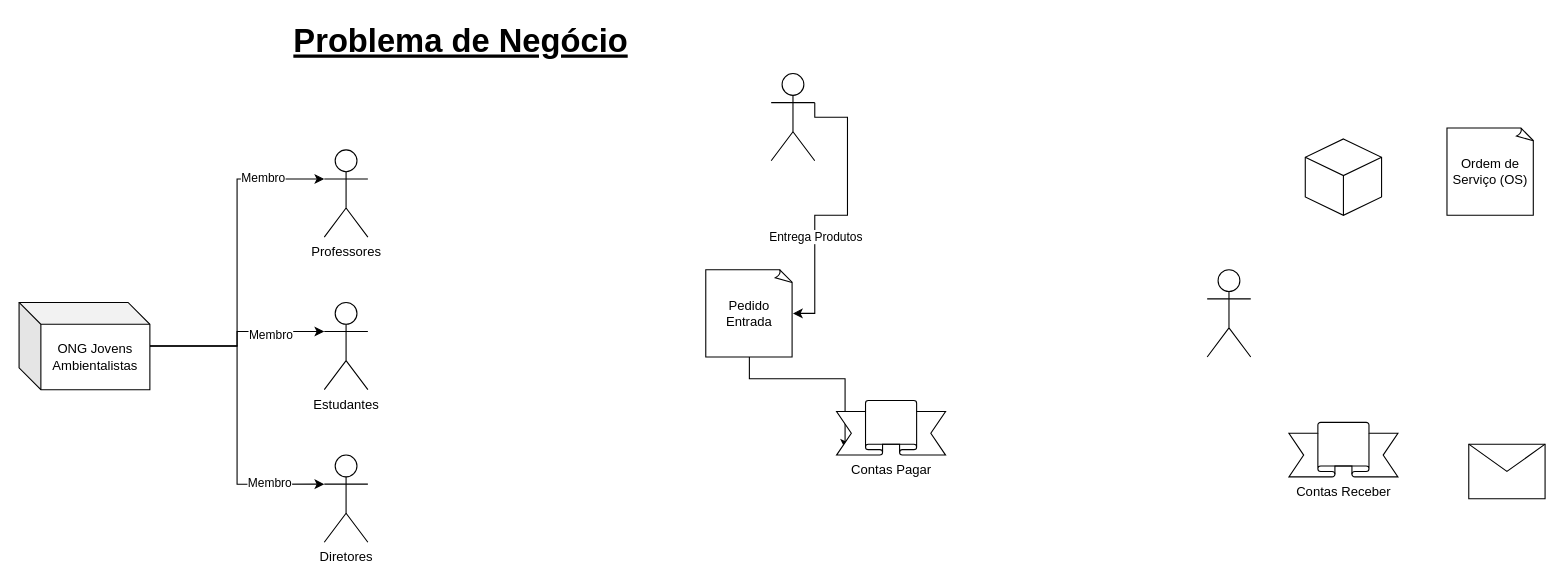
This 1564x583 diagram has some shape labels left out. Here are the shapes that lost their labels. From the top down, the box of each, then its label:
(770, 72, 815, 161): Fornecedores
(1304, 138, 1382, 215): Brinquedo
(1206, 269, 1251, 357): Clientes
(1468, 443, 1545, 499): Caixa
